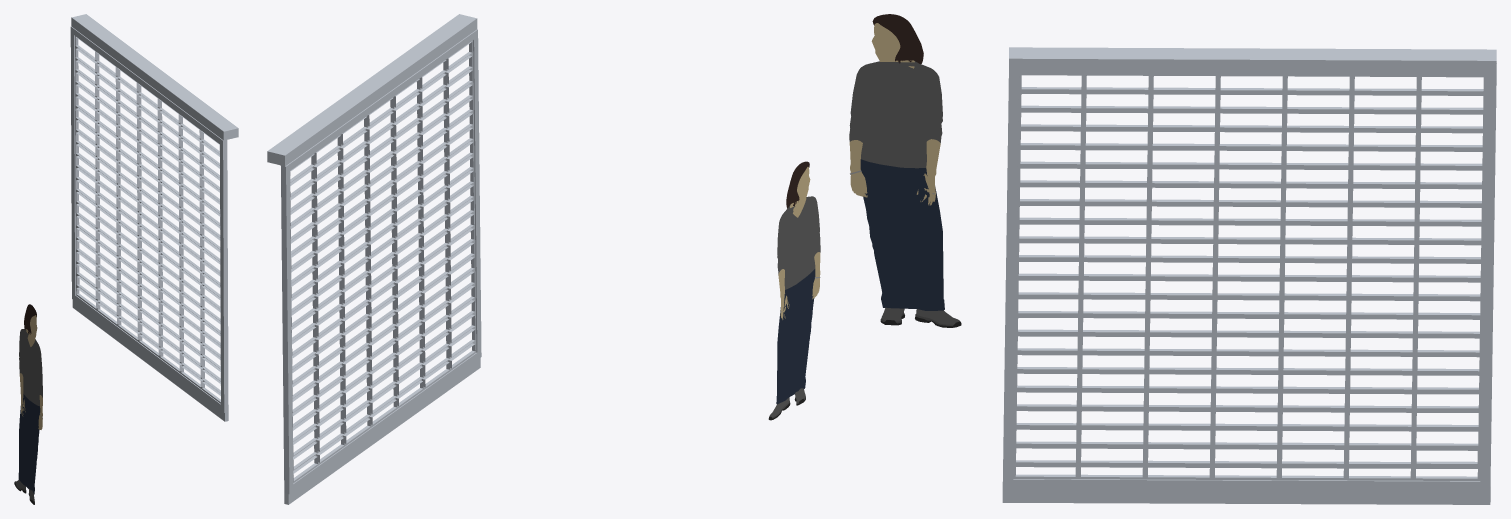
File: security+gate.obj
3 views of the same model, side by side, from view 1: azimuth 30°, elevation 25°; view 2: azimuth 150°, elevation 25°; view 3: azimuth 270°, elevation 25° (orthographic). The views are drawn at different scales.
Parts seen in each view (by area): view 1: Mesh1 Group1 Model, Mesh2 Susan1 Model; view 2: Mesh1 Group1 Model, Mesh2 Susan1 Model; view 3: Mesh1 Group1 Model, Mesh2 Susan1 Model.
Part boxes in pixels (x1,y1,x2,y2): Mesh1 Group1 Model: (70, 14, 238, 421); Mesh2 Susan1 Model: (14, 304, 42, 504); Mesh1 Group1 Model: (267, 14, 481, 504); Mesh2 Susan1 Model: (768, 161, 820, 420); Mesh1 Group1 Model: (1002, 47, 1496, 504); Mesh2 Susan1 Model: (849, 14, 961, 327).
Bounding box in the file's own units: 87.72 × 97.07 × 126.
